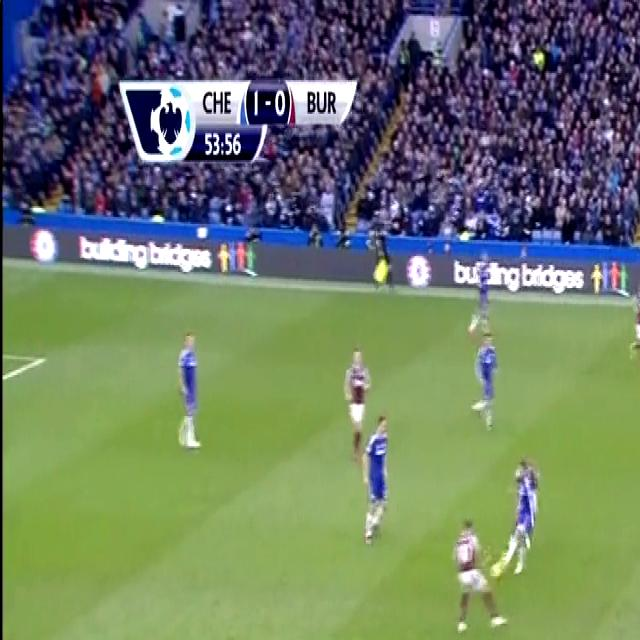ball: (487, 551, 511, 587)
referee: (363, 206, 397, 300)
soccer-player: (443, 501, 502, 640), (358, 406, 399, 550), (503, 450, 544, 582), (170, 320, 208, 460), (335, 335, 372, 454), (468, 322, 502, 438), (466, 243, 495, 338), (625, 267, 640, 384)
